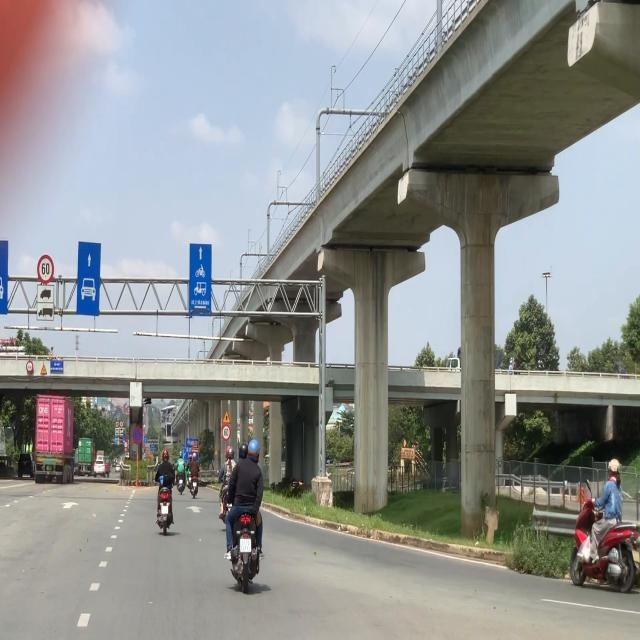bien_chi_dan: (37, 254, 54, 284), (132, 426, 143, 446), (222, 424, 232, 441), (222, 410, 231, 424), (26, 360, 33, 374)
